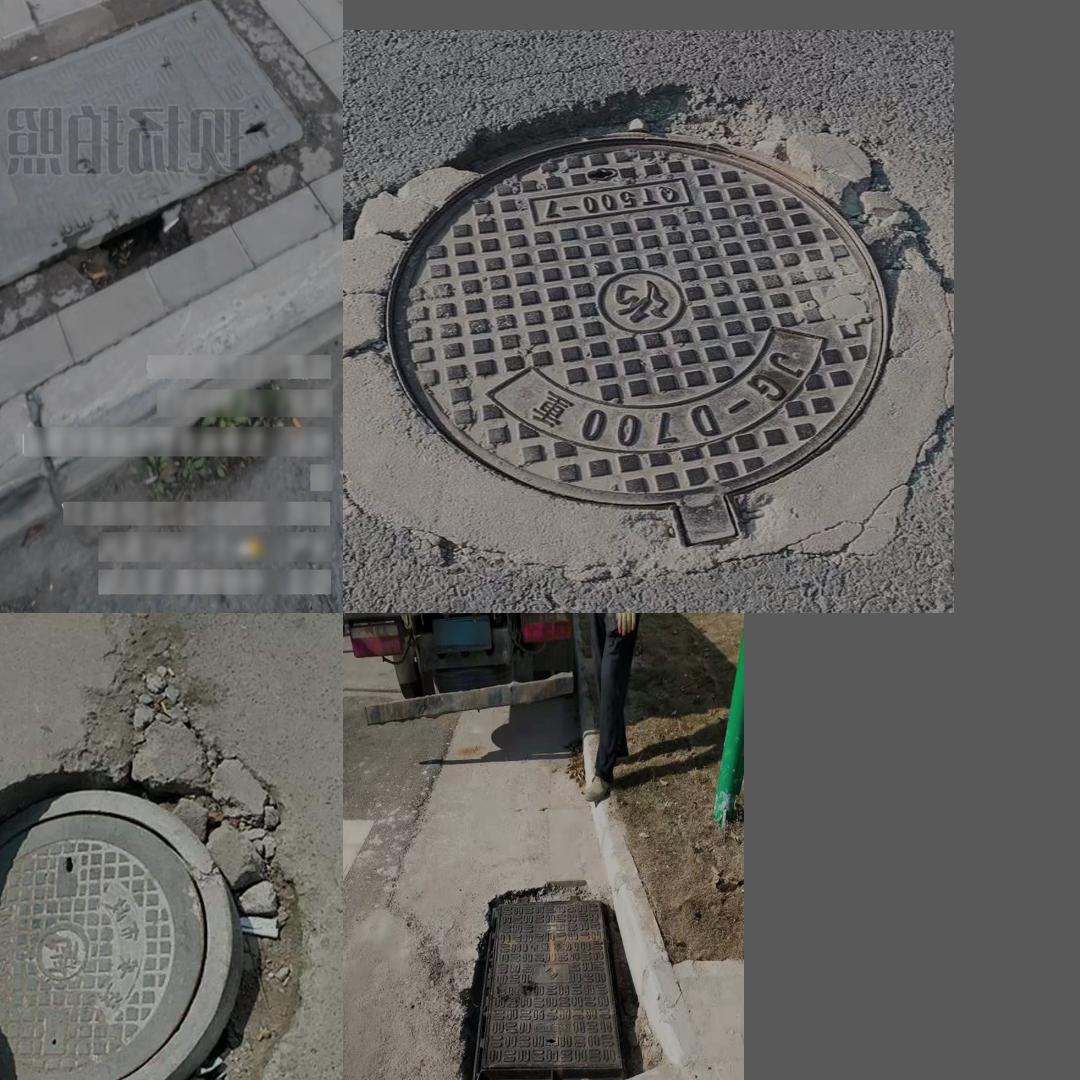circle: (361, 99, 933, 568), (0, 656, 295, 1080), (0, 0, 337, 336), (459, 889, 646, 1080)
